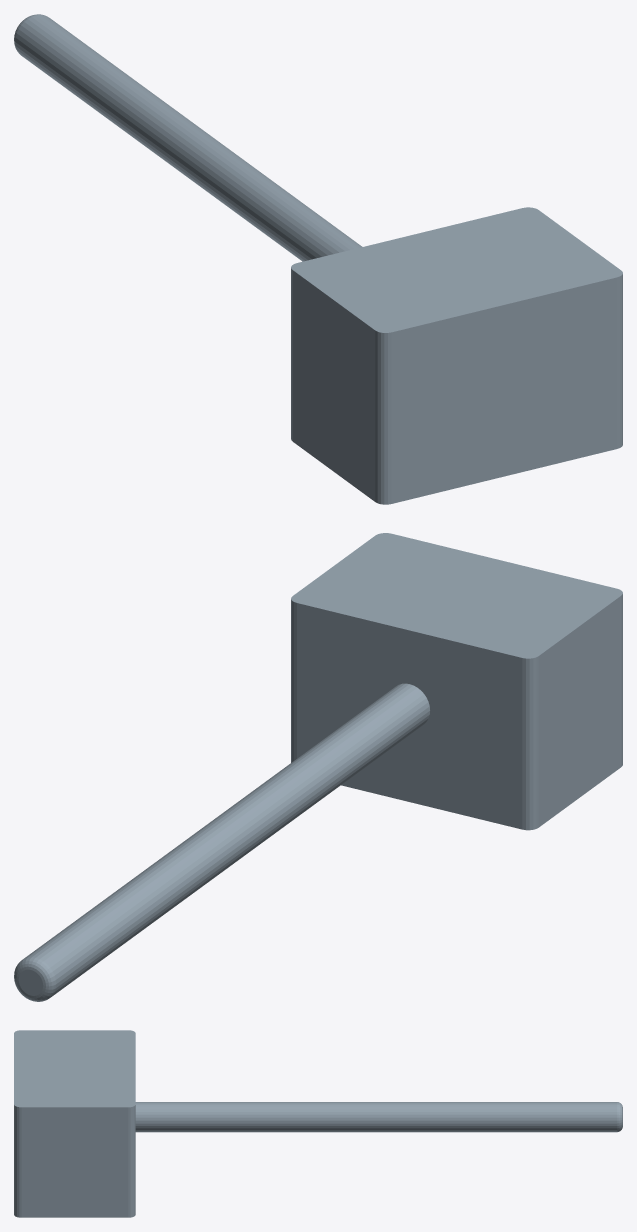
File: GenericSensor.glb
3 views of the same model, one above another, from view 1: azimuth 30°, elevation 25°; view 2: azimuth 150°, elevation 25°; view 3: azimuth 270°, elevation 25° (orthographic). The views are drawn at different scales.
Visible parts, largest first — view 1: child.001; view 2: child.001; view 3: child.001.
Boxes of the visible parts, bbox=[...] form: child.001: bbox=[14, 14, 622, 504]; child.001: bbox=[14, 533, 622, 1001]; child.001: bbox=[14, 1030, 622, 1217].
Bounding box in the file's own units: 120 × 80.5 × 400.
